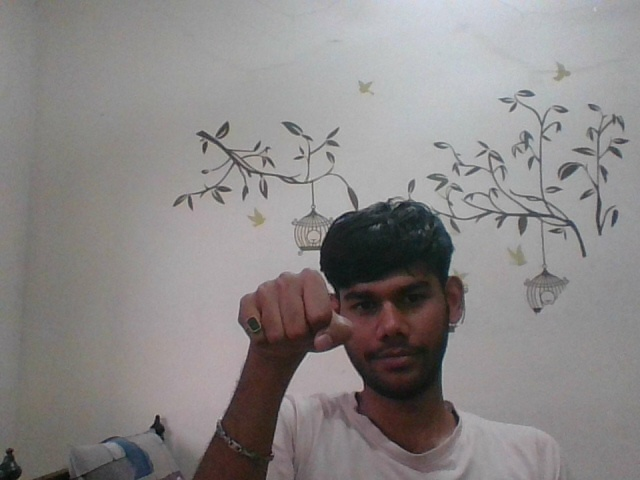Thank You: (227, 263, 352, 350)
